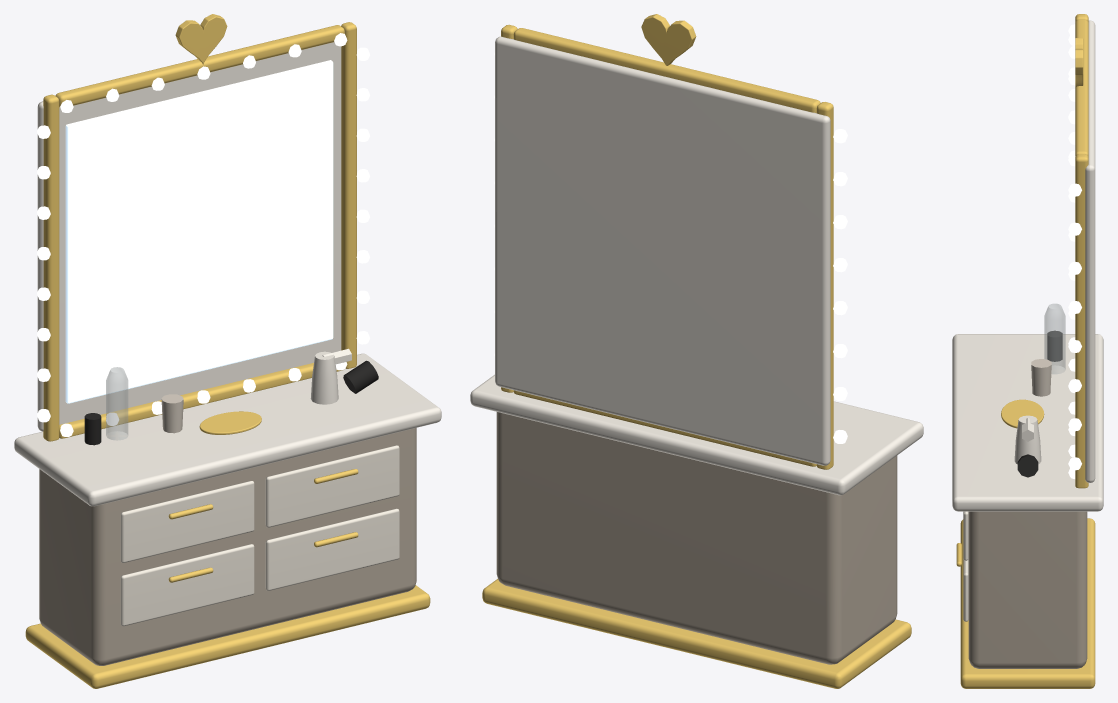
The model's file is mirror_station_lit.glb.
3 renders of one model, left to right at view 1: azimuth 30°, elevation 25°; view 2: azimuth 150°, elevation 25°; view 3: azimuth 270°, elevation 25°, orthographic. The views are drawn at different scales.
Visible parts, largest first — view 1: mirror_station_lit; view 2: mirror_station_lit; view 3: mirror_station_lit.
Boxes of the visible parts, left/top/right/bottom form: mirror_station_lit: left=14, top=14, right=441, bottom=688; mirror_station_lit: left=470, top=14, right=923, bottom=688; mirror_station_lit: left=952, top=14, right=1103, bottom=688.
Bounding box in the file's own units: 1.46 × 2.32 × 0.56.
